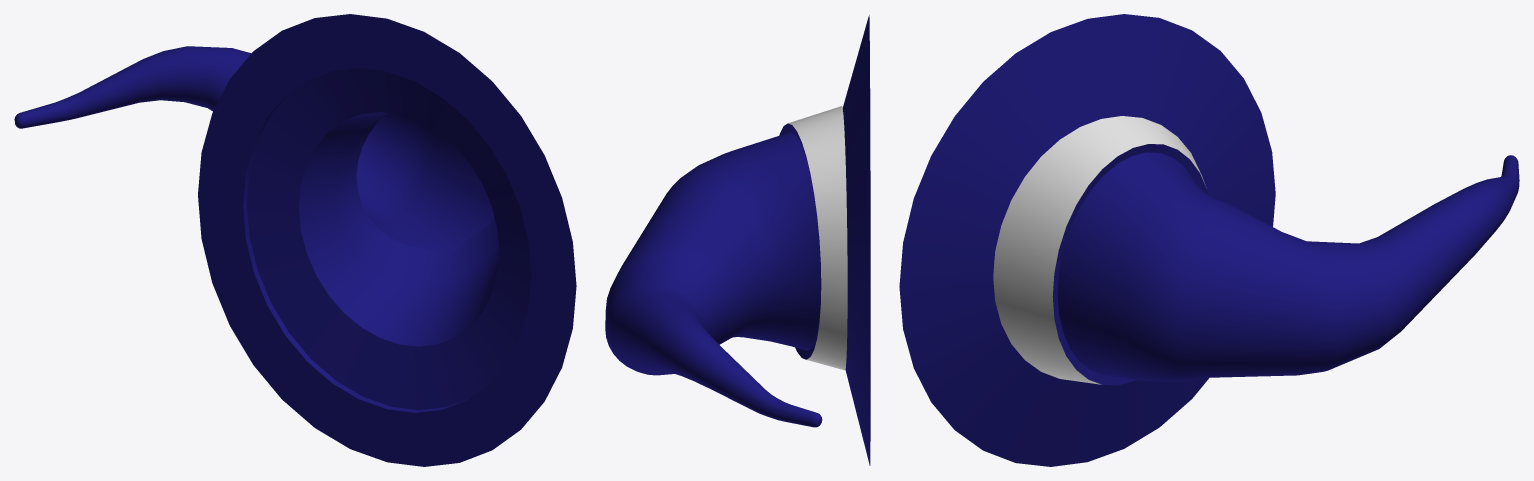
The model's file is WitchyHat_Back.fbx.
The picture shows the model from 3 angles, left to right: view 1: azimuth 30°, elevation 25°; view 2: azimuth 150°, elevation 25°; view 3: azimuth 270°, elevation 25°; orthographic projection. The views are drawn at different scales.
Parts seen in each view (by area): view 1: Circle; view 2: Circle; view 3: Circle.
Boxes of the visible parts, x1,y1,x2,y2 form: Circle: (14, 14, 576, 466); Circle: (605, 15, 870, 465); Circle: (899, 14, 1519, 466).
Size of the model in its own units: 0.256 by 0.3233 by 0.4097.
